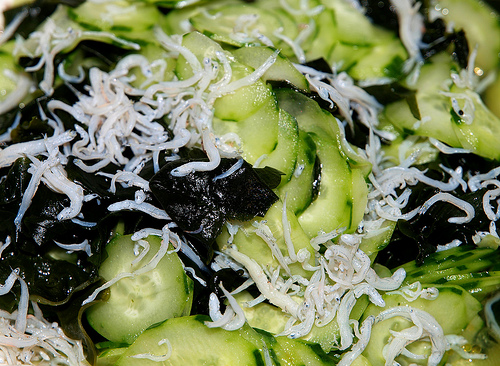cucumber: (83, 232, 196, 346), (116, 314, 264, 365)
